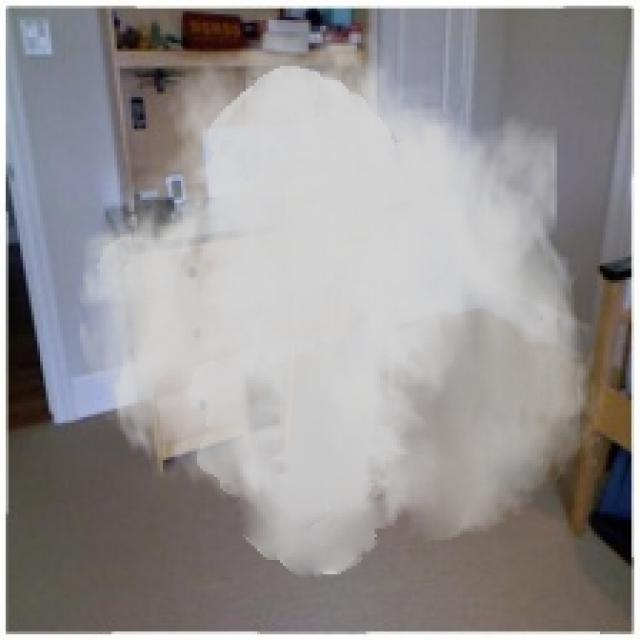smoke: (71, 9, 603, 577)
